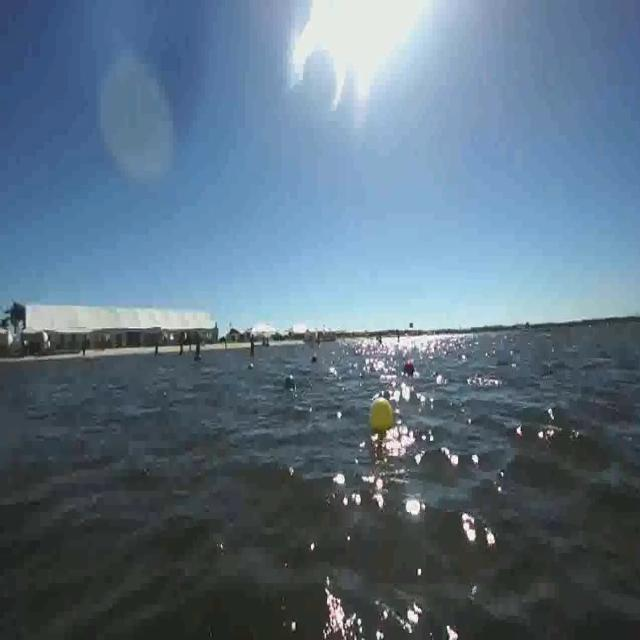yellow-buoy: (370, 397, 394, 434)
